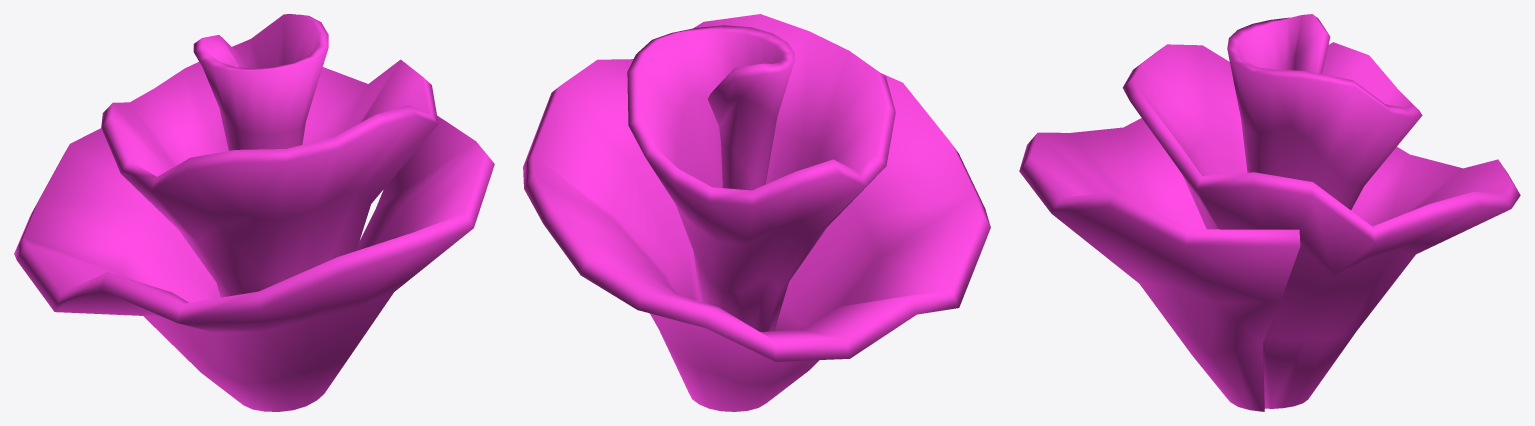
Rendered from Spiral Coral 1.fbx.
3 renders of one model, left to right at view 1: azimuth 30°, elevation 25°; view 2: azimuth 150°, elevation 25°; view 3: azimuth 270°, elevation 25°, orthographic.
Parts seen in each view (by area): view 1: Helix006; view 2: Helix006; view 3: Helix006.
Part boxes in pixels (<box>): Helix006: <box>14,14,494,411</box>; Helix006: <box>523,14,990,411</box>; Helix006: <box>1019,14,1520,411</box>.
Size of the model in its own units: 22.71 by 20.03 by 25.11.
